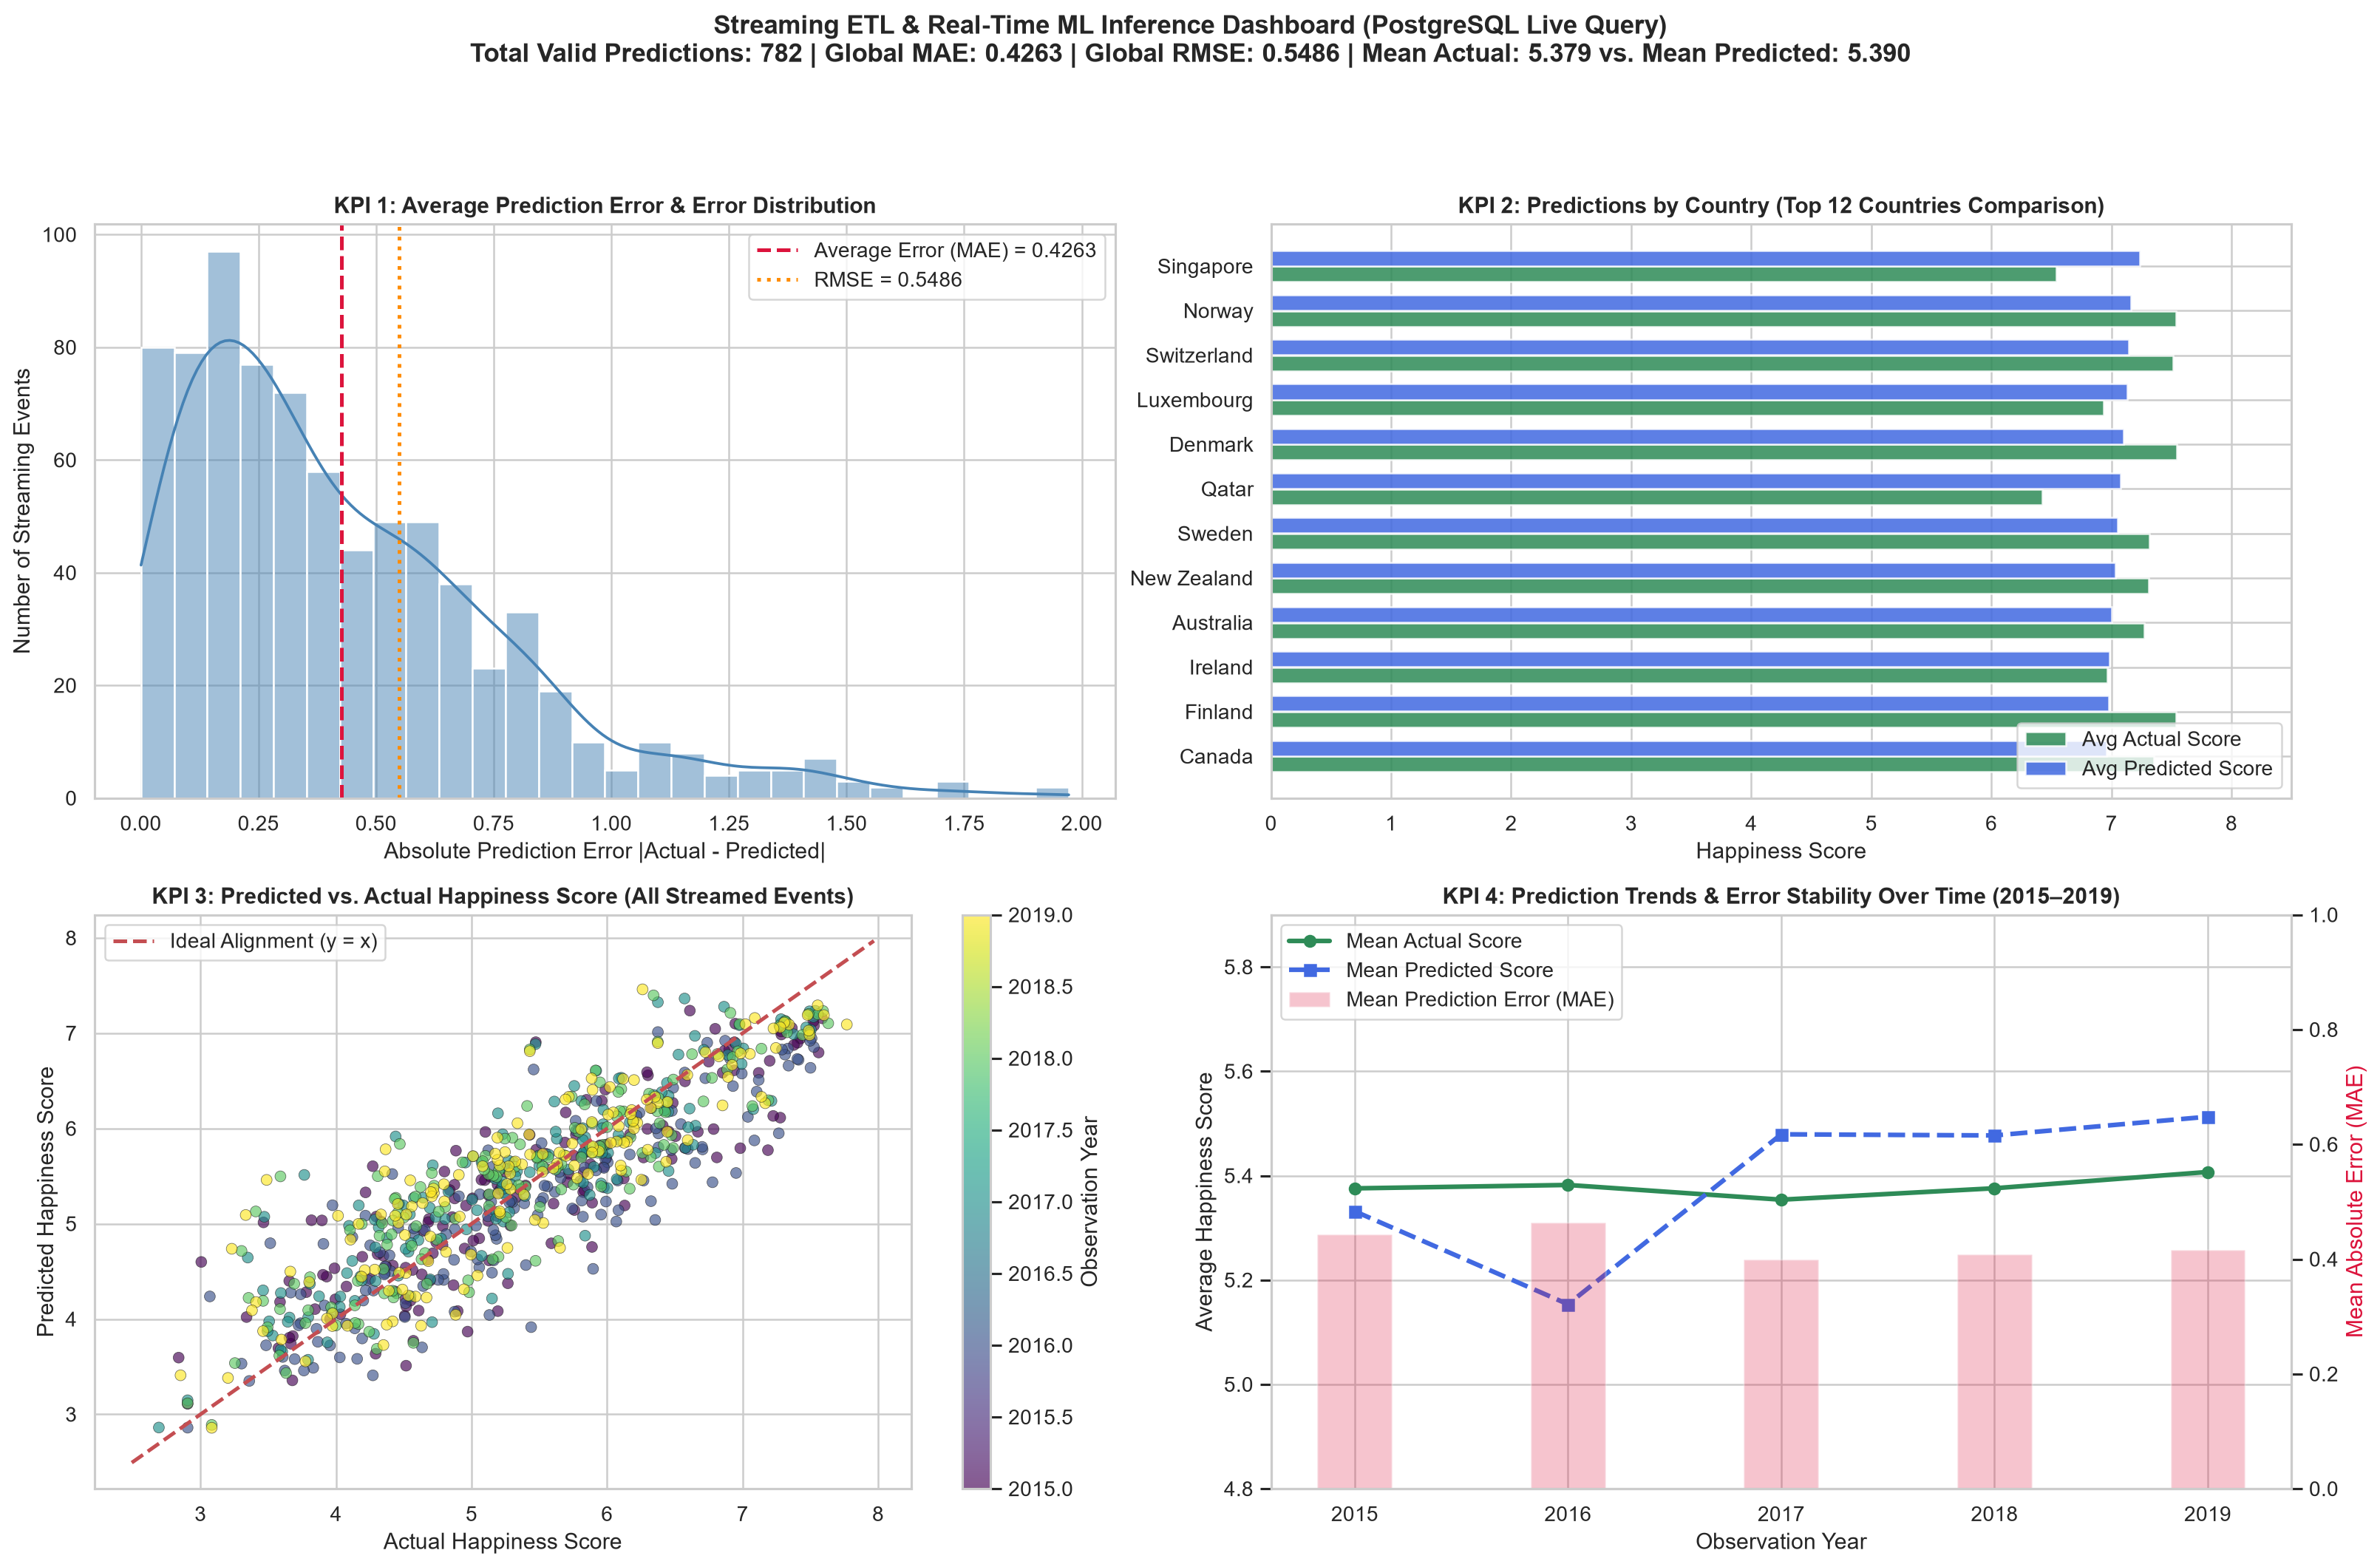

The page's visual inventory and layout, read from the dashboard file:
{"tool":"powerbi","page":{"name":"Page 1","canvas":[1920,1080],"ordinal":0},"visuals":[{"type":"cardVisual","fields":{"Data":["Avg(fact_predictions.prediction_error)"]},"box":[0,0,355.7,110],"z":0},{"type":"cardVisual","fields":{"Data":["CountNonNull(fact_predictions.prediction_id)"]},"box":[355.7,0,355.7,110],"z":1000},{"type":"clusteredBarChart","title":"KPI 2: Average Actual vs. Predicted Score by Country","fields":{"Category":["dim_country.country_name"],"Y":["Avg(fact_predictions.actual_score)","Avg(fact_predictions.predicted_score)"]},"box":[0,110,711.4,970],"z":2000},{"type":"scatterChart","title":"KPI 3: Predicted vs. Actual Happiness Score (All Streamed Events)","fields":{"Category":["fact_predictions.prediction_id"],"Series":["dim_date.observation_year"],"X":["Avg(fact_predictions.actual_score)"],"Y":["Avg(fact_predictions.predicted_score)"]},"box":[711.4,0,1208.6,632.9],"z":3000},{"type":"lineChart","title":"KPI 4: Prediction & Error Trends Over Time (2015–2019)","fields":{"Category":["dim_date.observation_year"],"Y":["Avg(fact_predictions.actual_score)","Avg(fact_predictions.predicted_score)"],"Y2":["Avg(fact_predictions.prediction_error)"]},"box":[711,633,1209,447],"z":4000}]}

Visuals, with their boxes on the page's 1920x1080 design canvas (x1, y1, x2, y2). These are canvas units, not pixel positions in the 2380x1567 screenshot, which may show the page scaled, cropped or inside an application window:
cardVisual - Avg(fact_predictions.prediction_error): Rect(0, 0, 356, 110)
cardVisual - CountNonNull(fact_predictions.prediction_id): Rect(356, 0, 711, 110)
"KPI 2: Average Actual vs. Predicted Score by Country" clusteredBarChart: Rect(0, 110, 711, 1080)
"KPI 3: Predicted vs. Actual Happiness Score (All Streamed Events)" scatterChart: Rect(711, 0, 1920, 633)
"KPI 4: Prediction & Error Trends Over Time (2015–2019)" lineChart: Rect(711, 633, 1920, 1080)
